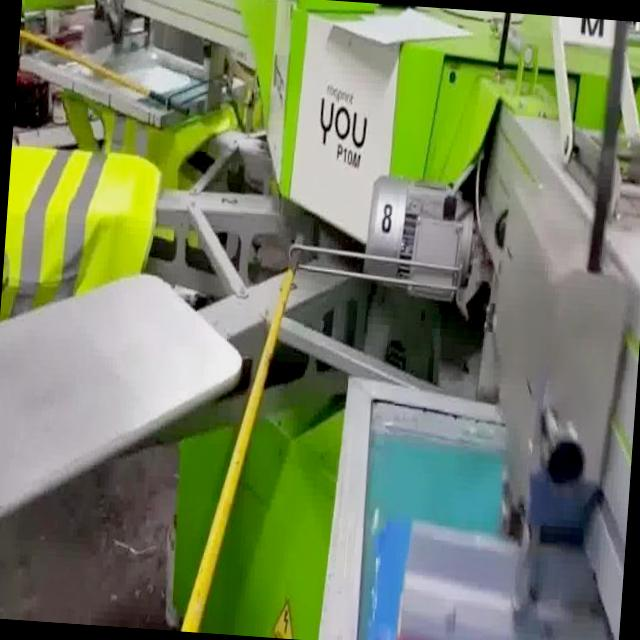vest: (0, 142, 165, 328)
